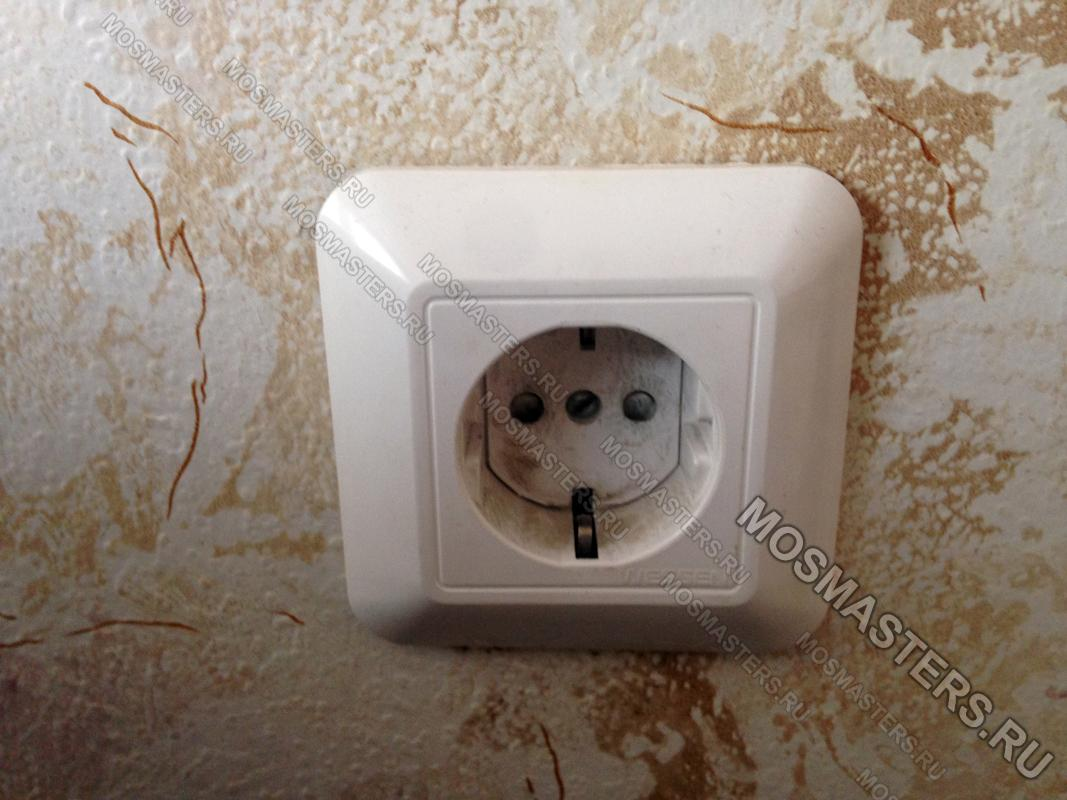raccoon: (447, 318, 725, 572)
